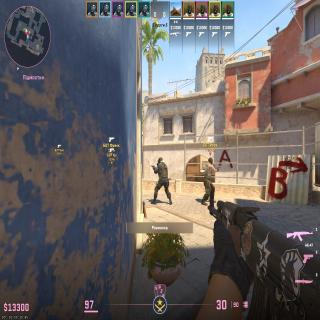CT-Body: (157, 157, 169, 203)
CT-Head: (158, 157, 162, 164)
T-Body: (203, 158, 216, 204)
T-Head: (209, 158, 213, 164)
